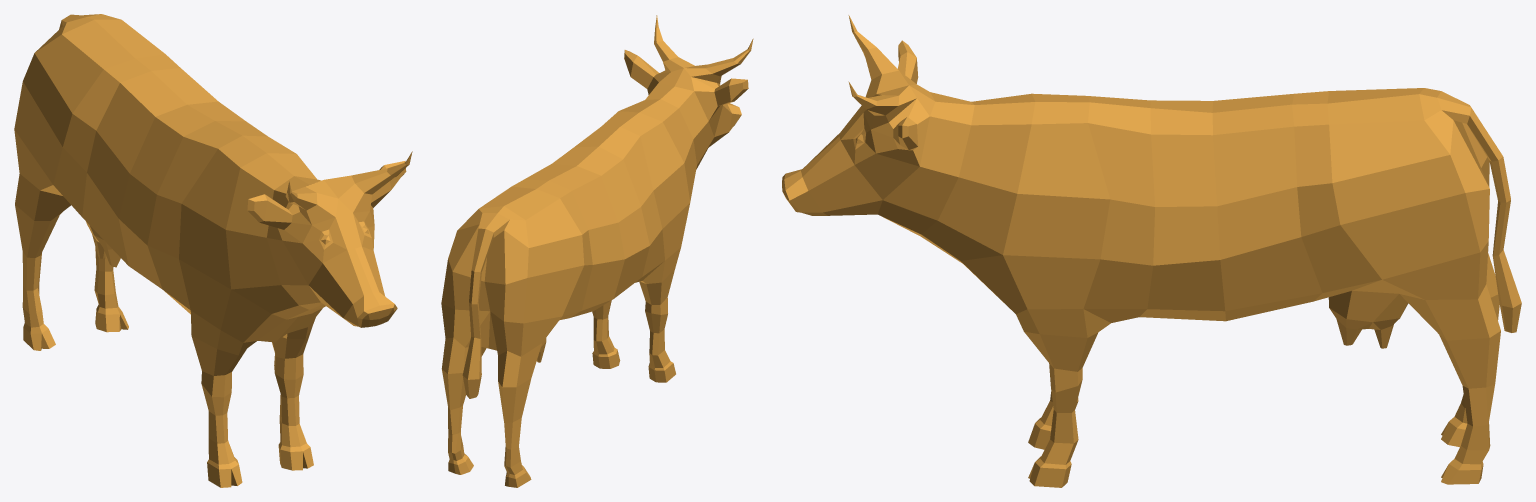
The model's file is animals-cow.glb.
3 views of the same model, side by side, from view 1: azimuth 30°, elevation 25°; view 2: azimuth 150°, elevation 25°; view 3: azimuth 270°, elevation 25° (orthographic). The views are drawn at different scales.
Parts seen in each view (by area): view 1: cow; view 2: cow; view 3: cow.
Part boxes in pixels (x1=…): cow: x1=14, y1=14, x2=412, y2=487; cow: x1=441, y1=15, x2=753, y2=487; cow: x1=782, y1=15, x2=1521, y2=487.
Bounding box in the file's own units: 0.8096 × 1.82 × 2.94.
